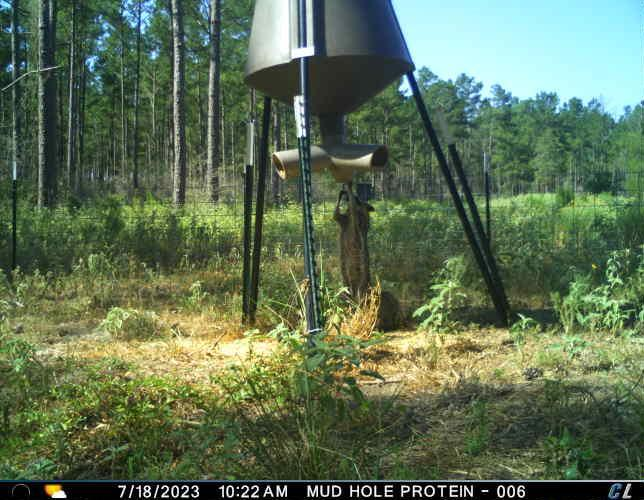Raccoon: (334, 184, 375, 295), (373, 288, 405, 331)
